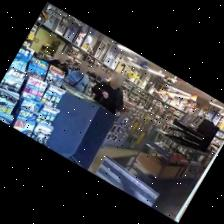person: (92, 74, 123, 116), (66, 63, 89, 94), (48, 53, 68, 76)
